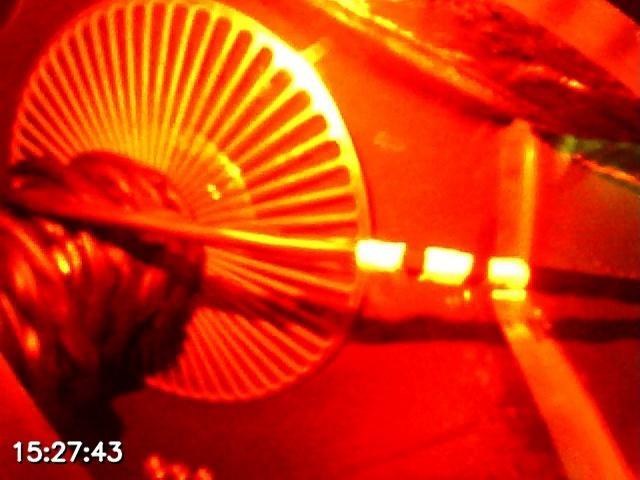white-dots: (354, 237, 530, 290)
